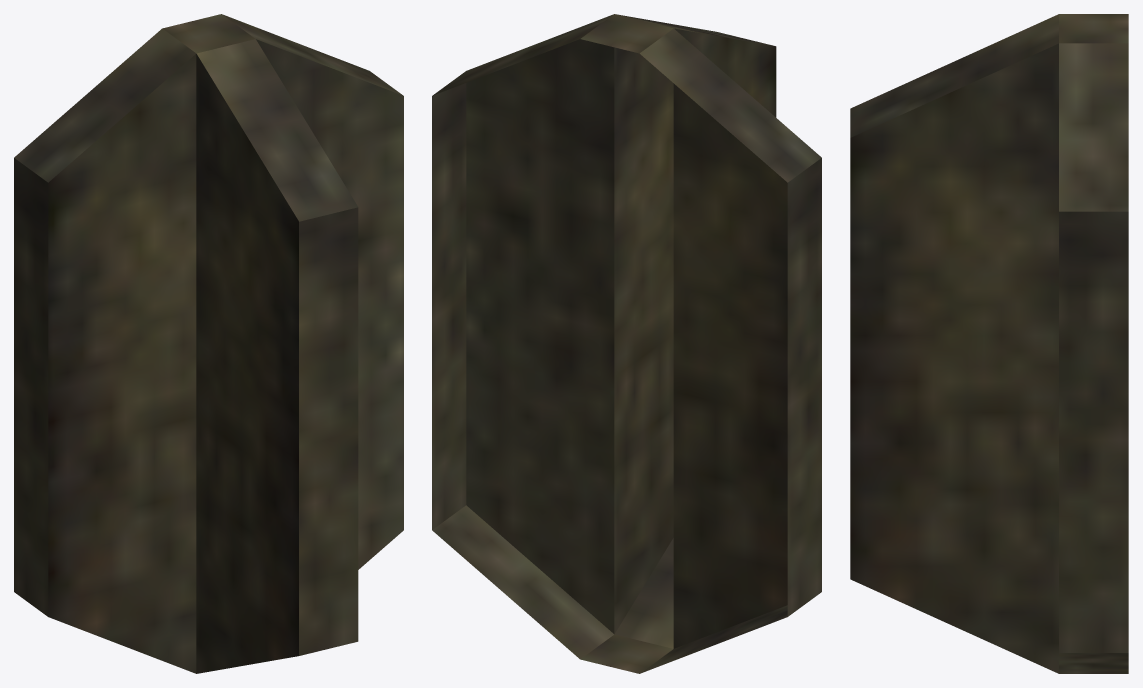
The model's file is wires_holder_hr_small_1_1.obj.
The picture shows the model from 3 angles, left to right: view 1: azimuth 30°, elevation 25°; view 2: azimuth 150°, elevation 25°; view 3: azimuth 270°, elevation 25°; orthographic projection.
Visible parts, largest first — view 1: wires_holder_hr_small_1_1; view 2: wires_holder_hr_small_1_1; view 3: wires_holder_hr_small_1_1.
Part boxes in pixels (box(x1,y1,x2,y2)): wires_holder_hr_small_1_1: box(14, 14, 403, 673); wires_holder_hr_small_1_1: box(432, 14, 821, 673); wires_holder_hr_small_1_1: box(850, 14, 1128, 673).
Size of the model in its own units: 0.12 by 0.2 by 0.08.
